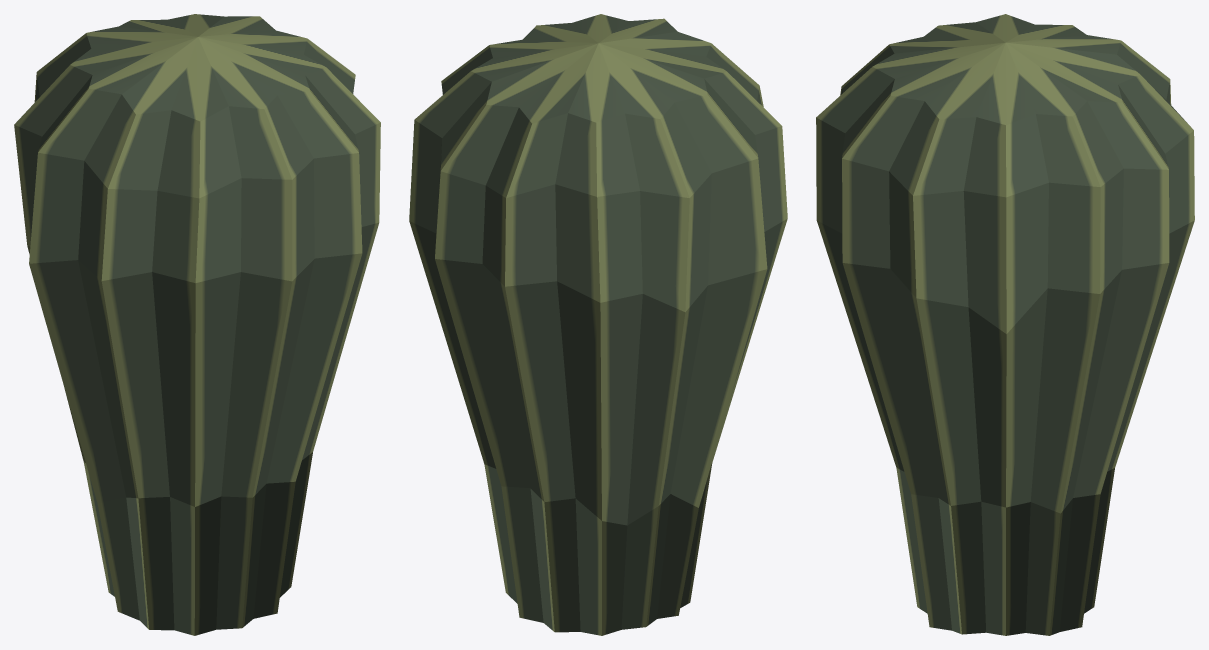
File: SM_Env_Cactus_03.fbx
The picture shows the model from 3 angles, left to right: view 1: azimuth 30°, elevation 25°; view 2: azimuth 150°, elevation 25°; view 3: azimuth 270°, elevation 25°; orthographic projection.
Parts seen in each view (by area): view 1: SM_Env_Cactus_03; view 2: SM_Env_Cactus_03; view 3: SM_Env_Cactus_03.
Boxes of the visible parts, x1,y1,x2,y2 form: SM_Env_Cactus_03: [14, 14, 380, 635]; SM_Env_Cactus_03: [409, 14, 787, 635]; SM_Env_Cactus_03: [816, 14, 1194, 635].
Size of the model in its own units: 40.25 by 66.04 by 40.01.
